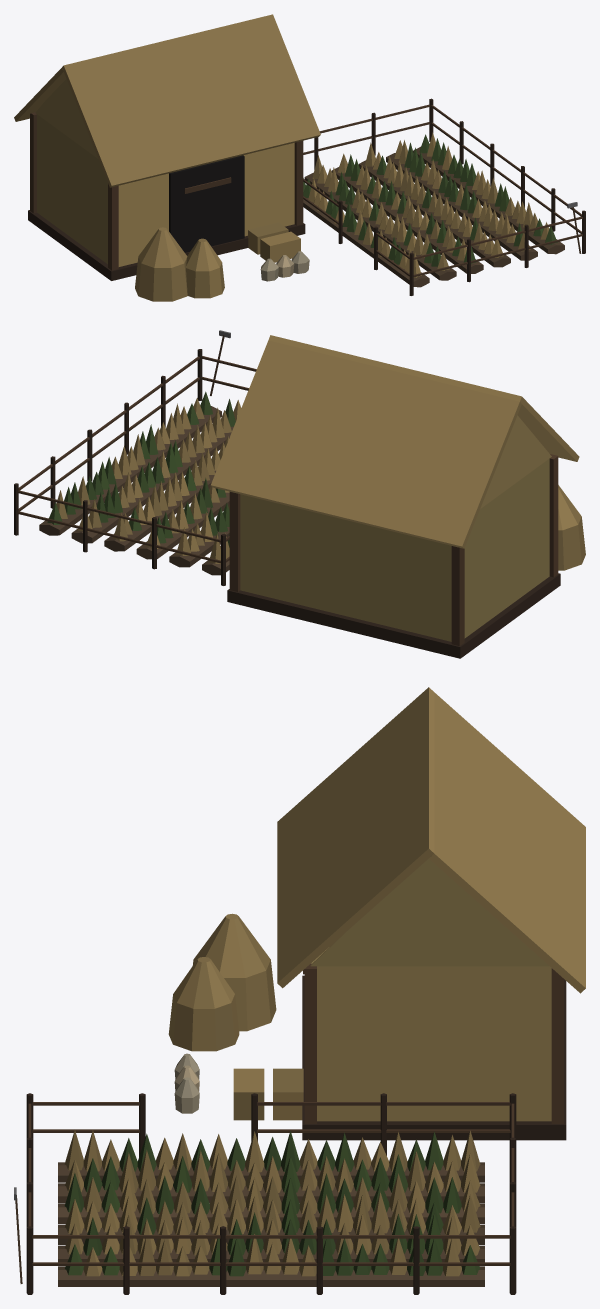
File: walk_tidebound_farm.glb
The picture shows the model from 3 angles, top to bottom: view 1: azimuth 30°, elevation 25°; view 2: azimuth 150°, elevation 25°; view 3: azimuth 270°, elevation 25°; orthographic projection. The views are drawn at different scales.
Visible parts, largest first — view 1: walk_tidebound_farm, walk_tidebound_farm_roof; view 2: walk_tidebound_farm, walk_tidebound_farm_roof; view 3: walk_tidebound_farm, walk_tidebound_farm_roof.
Boxes of the visible parts, <box> form: walk_tidebound_farm: <box>28,79,585,301</box>; walk_tidebound_farm_roof: <box>14,14,320,187</box>; walk_tidebound_farm: <box>14,330,585,658</box>; walk_tidebound_farm_roof: <box>211,335,579,548</box>; walk_tidebound_farm: <box>14,858,566,1294</box>; walk_tidebound_farm_roof: <box>277,687,585,993</box>.
Size of what is drawn, in the model's own units: 12.85 by 6.04 by 10.18.
Materials: 2 (2 with a texture image).
